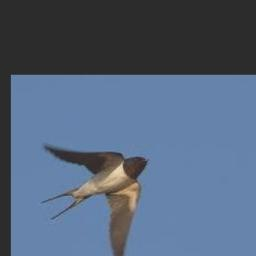Swallow: (40, 144, 148, 256)
